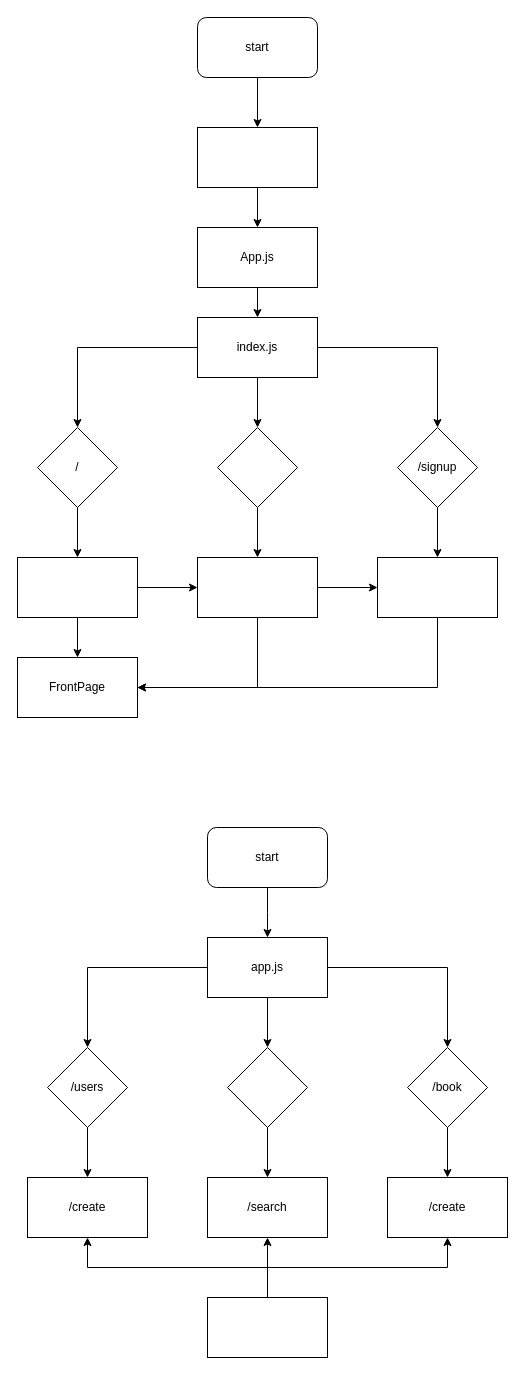
This 525x1375 diagram has some shape labels left out. The box of each missing label's shape, as (x1, y1, x2, y2) in pixels:
/flight: (226, 1046, 308, 1128)
/login: (216, 426, 298, 508)
db/index.js: (206, 1296, 328, 1358)
LoginPage: (196, 556, 318, 618)
NavBar: (16, 556, 138, 618)
Router.js: (196, 126, 318, 188)
SignupPage: (376, 556, 498, 618)
